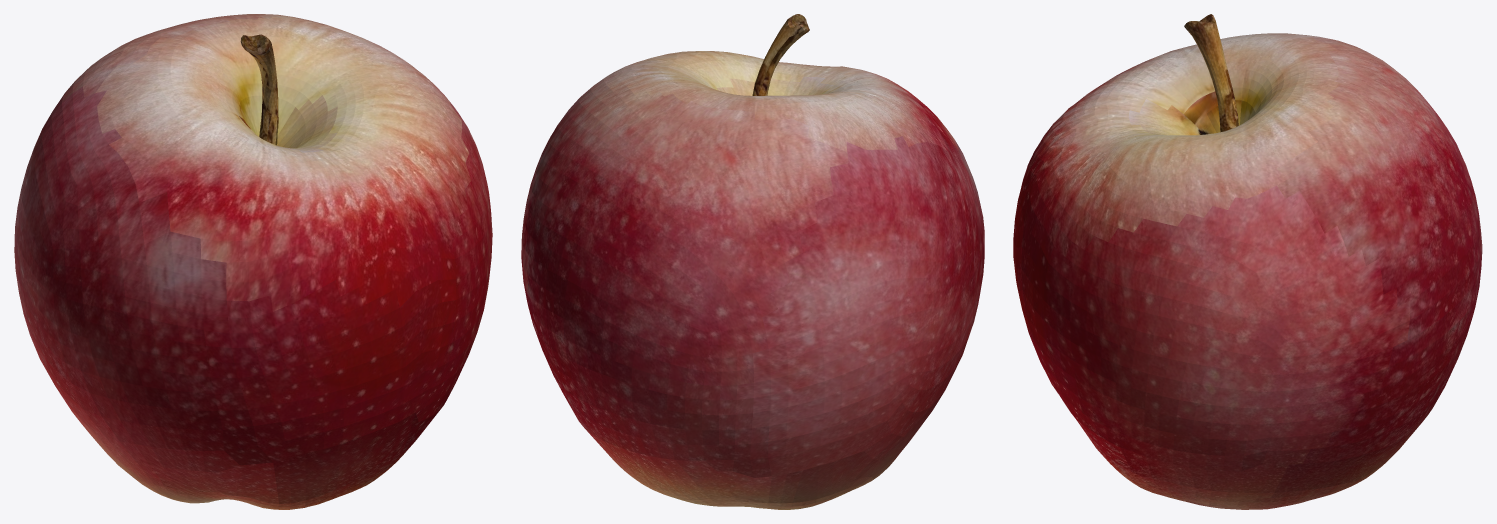
File: red-apple-web-2k.glb
The picture shows the model from 3 angles, left to right: view 1: azimuth 30°, elevation 25°; view 2: azimuth 150°, elevation 25°; view 3: azimuth 270°, elevation 25°; orthographic projection. The views are drawn at different scales.
Parts seen in each view (by area): view 1: mesh_input; view 2: mesh_input; view 3: mesh_input.
Part boxes in pixels (x1,y1,x2,y2): mesh_input: [14, 14, 492, 509]; mesh_input: [521, 14, 984, 509]; mesh_input: [1013, 14, 1482, 509].
Size of the model in its own units: 1.81 by 1.9 by 1.83.
1 material, 1 textured.
